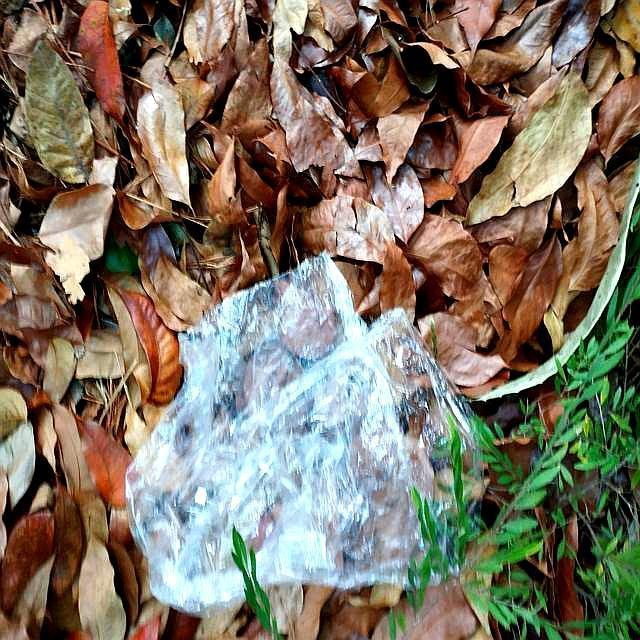Non-biodegradable: (123, 250, 488, 616)
